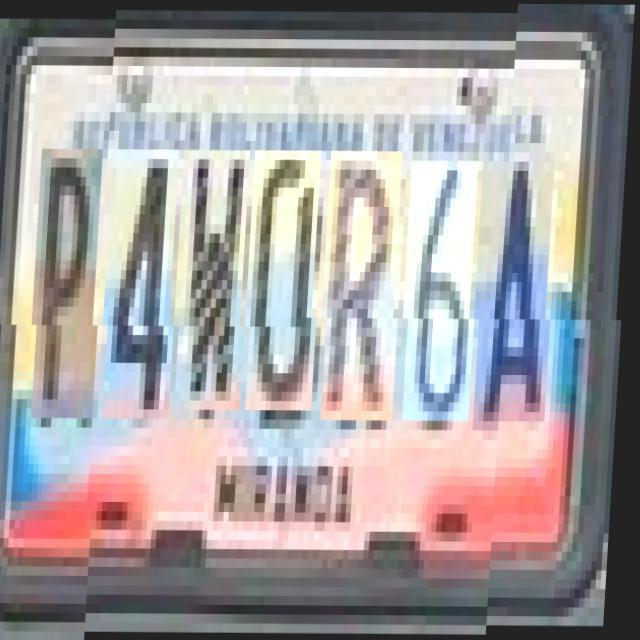0: (250, 150, 328, 410)
4: (108, 150, 186, 418)
6: (407, 160, 485, 420)
A: (478, 160, 562, 430)
P: (37, 140, 111, 408)
R: (326, 150, 410, 420)
W: (179, 150, 257, 410)
